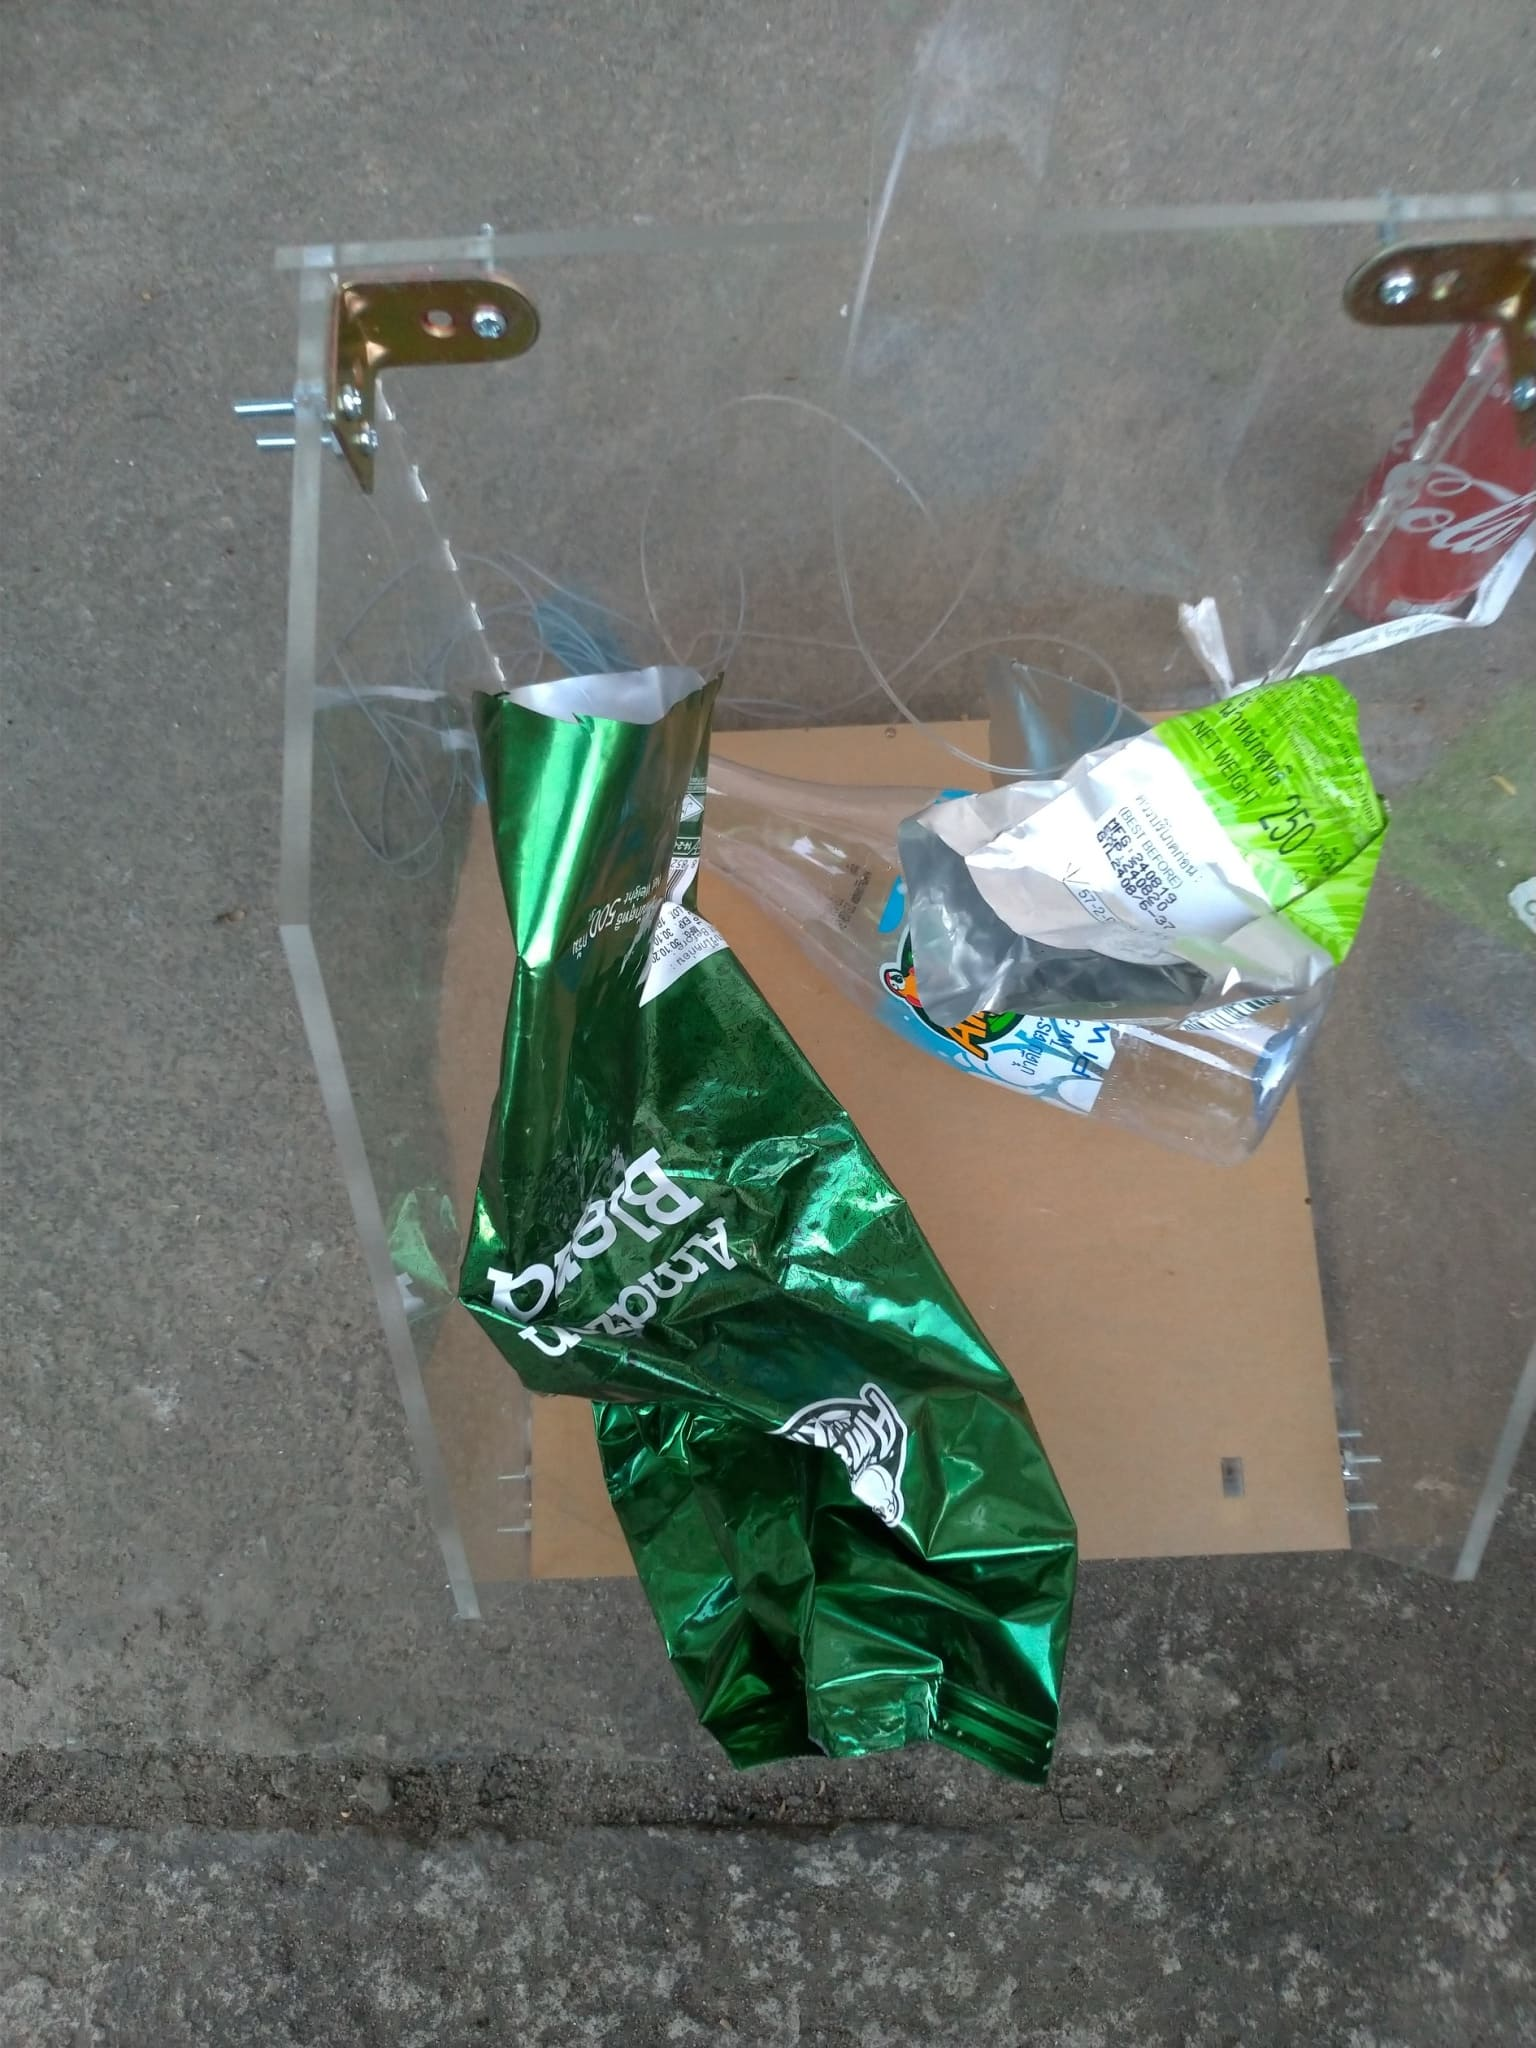AlCan: (1334, 313, 1536, 618)
Others: (473, 668, 1060, 1777), (915, 674, 1376, 997), (1176, 529, 1536, 697)
PlasticBottle: (686, 739, 1302, 1138)
